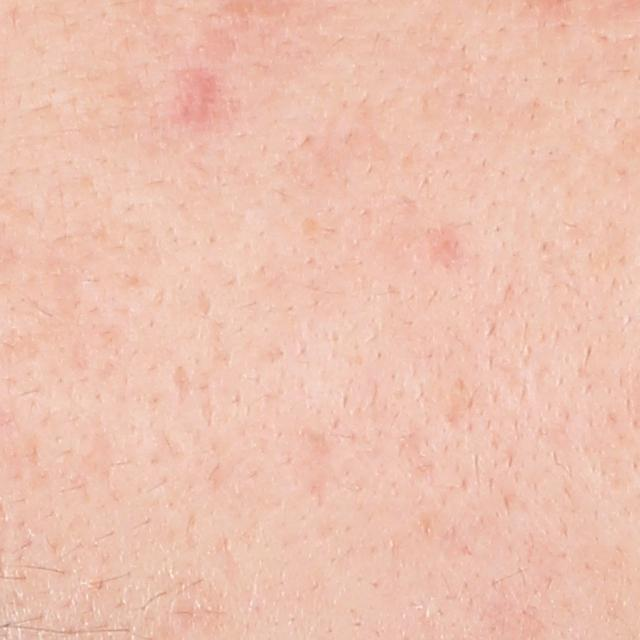atrophic_scar: (169, 359, 197, 408)
